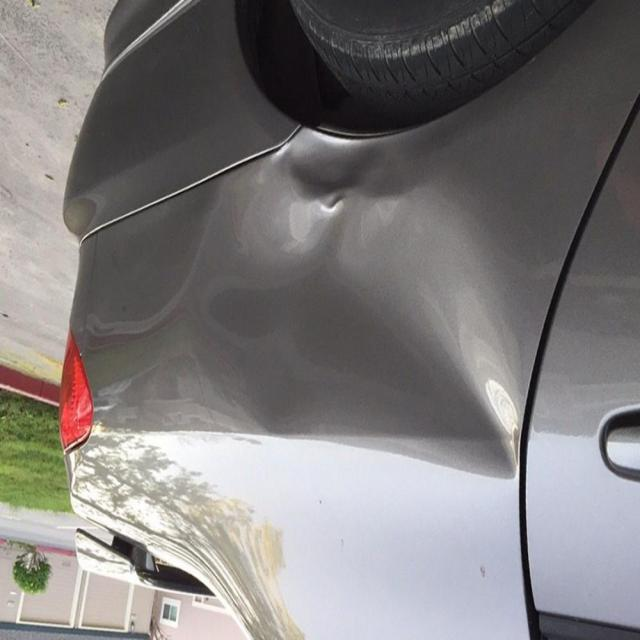dent: (217, 119, 534, 494)
